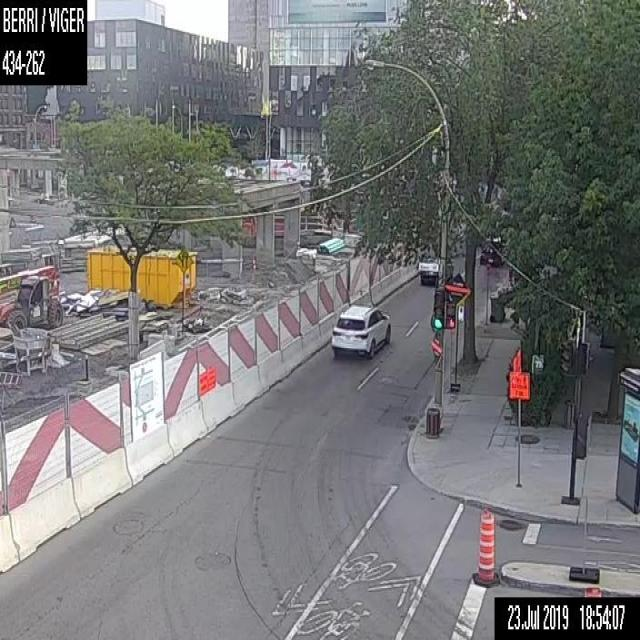construction: (507, 344, 531, 485), (470, 511, 497, 586)
vehicle: (330, 301, 391, 360), (418, 250, 454, 286), (479, 245, 504, 267)
